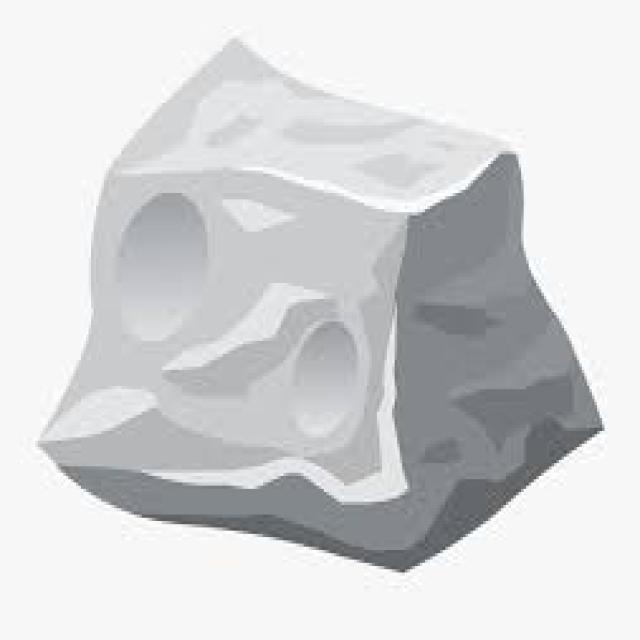Metamorphic: (46, 35, 607, 579)
